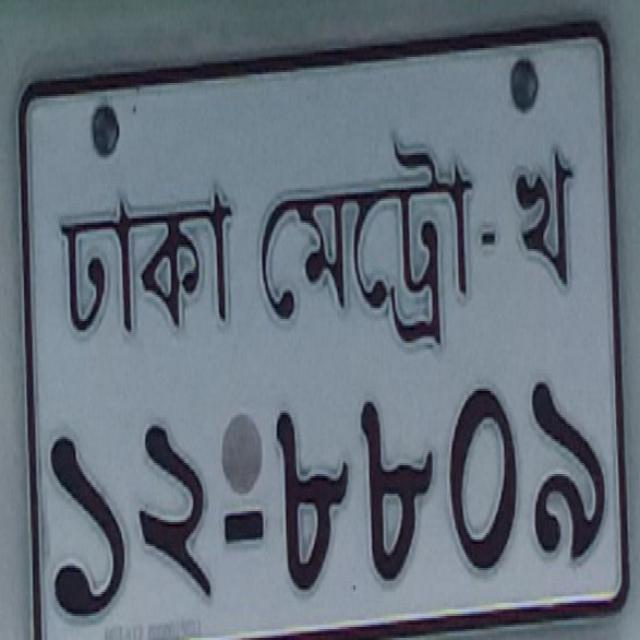numberplate: (14, 18, 629, 637)
